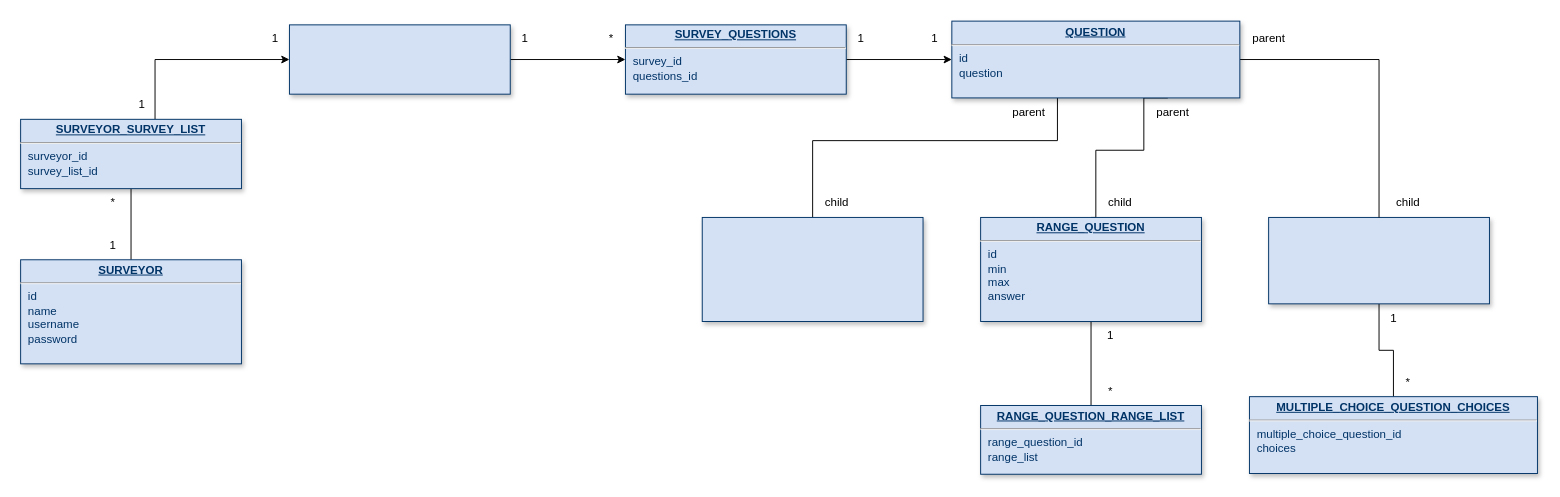
Image size: 1560x497. Some labels were removed from this diagram. Here are the shapes that lost their labels. From the top down, the centre of each, then its label:
the point at 400,60: SURVEY id survey_name
the point at 813,270: TEXT_QUESTION id min max answer
the point at 1379,262: MULTIPLE_CHOICE_QUESTION id choices_limit answer
